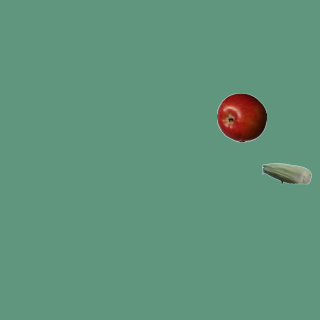Apple Braeburn: (216, 92, 266, 142)
Corn Husk: (261, 148, 311, 198)
